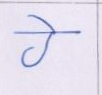e_matra: (27, 14, 58, 31)
